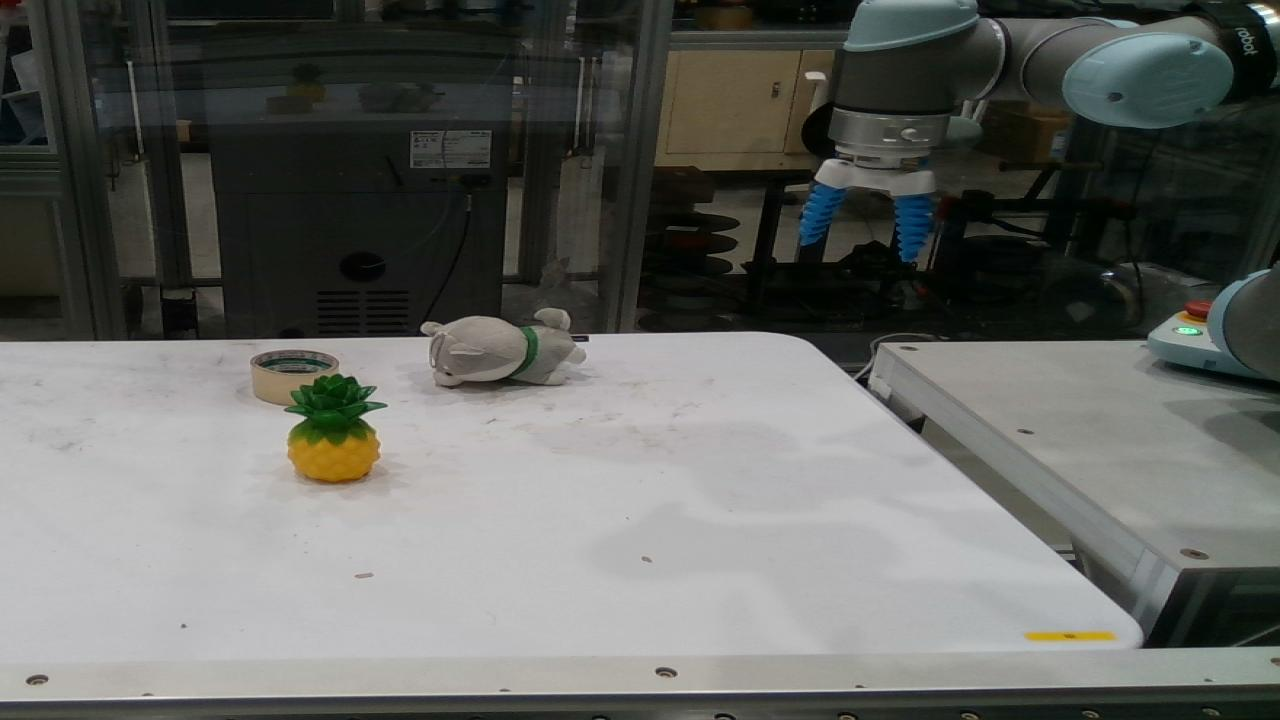UR5: (816, 0, 1279, 196), (1209, 270, 1279, 380)
gripper_left: (800, 184, 845, 247)
gripper_right: (895, 193, 932, 262)
target: (420, 307, 586, 387), (285, 374, 385, 482), (252, 350, 339, 406)
